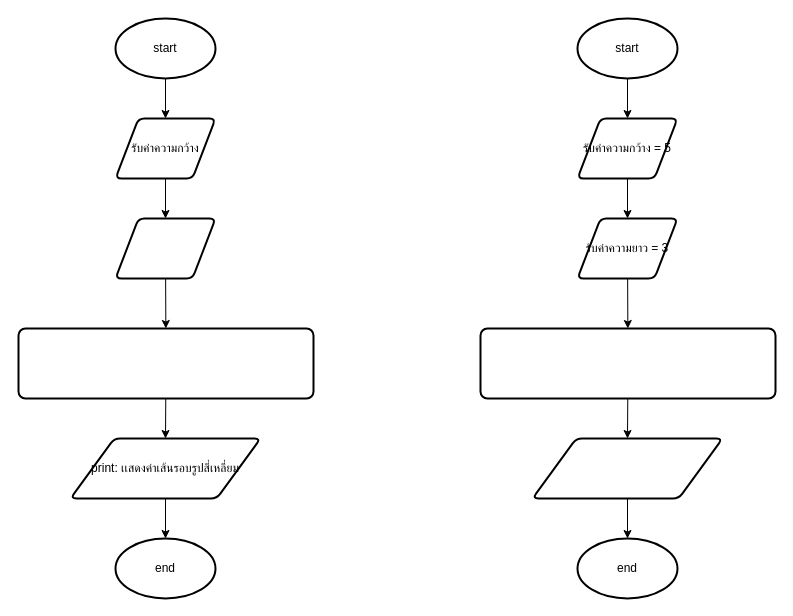
The diagram is 793 pixels wide and 616 high, and some of its shapes have lost their labels. Each missing label, with the centre of its shape:
"print: 16" belongs at (627,468).
"รับค่าความยาว" belongs at (165,248).
"เส้นความยาวรอบรูปสี่เหลี่ยม = 2(3 + 5)" belongs at (627,363).
"เส้นความยาวรอบรูปสี่เหลี่ยม = 2(ความยาว + ความกว้าง)" belongs at (165,363).
